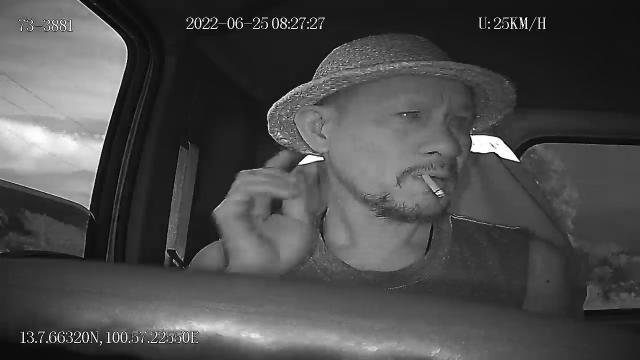SafeDriving: (388, 101, 428, 125)
Smoking: (419, 171, 448, 199)
